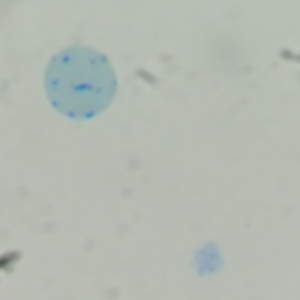punctate reticulocyte: (42, 46, 119, 121)
